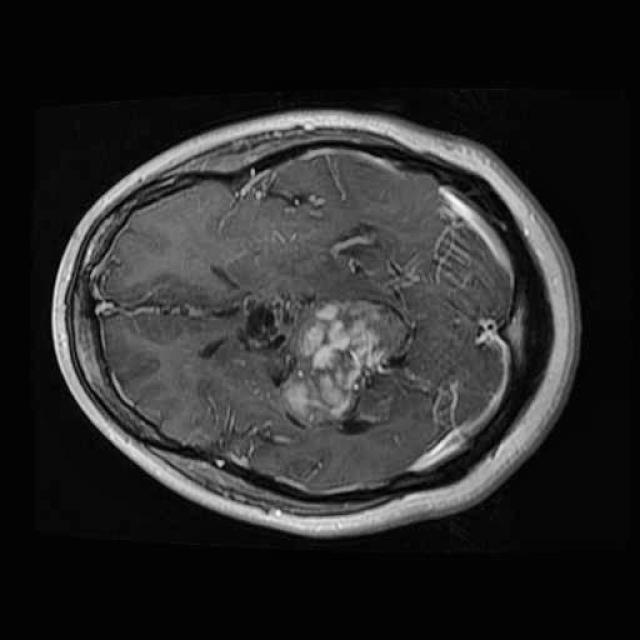Non-Tumor: (260, 278, 426, 444)
